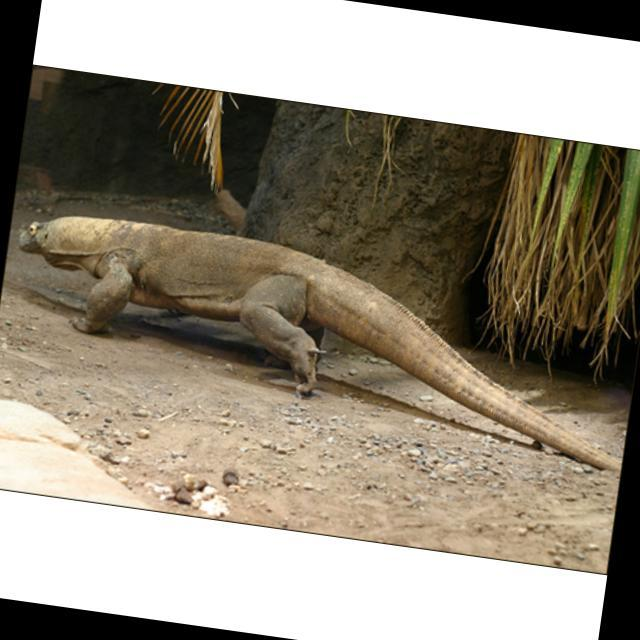KomodoDragon: (0, 204, 640, 473)
